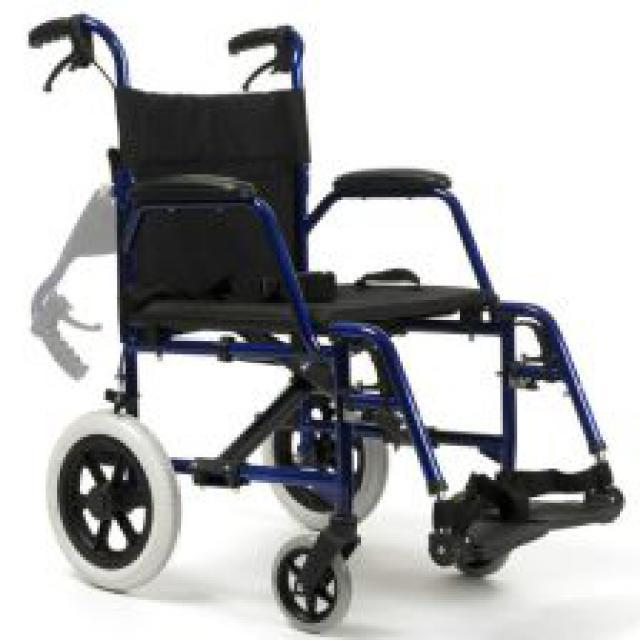wheelchairs: (32, 17, 624, 636)
